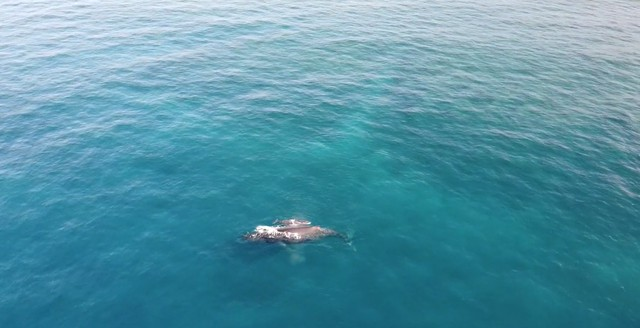whale: (235, 214, 371, 259)
